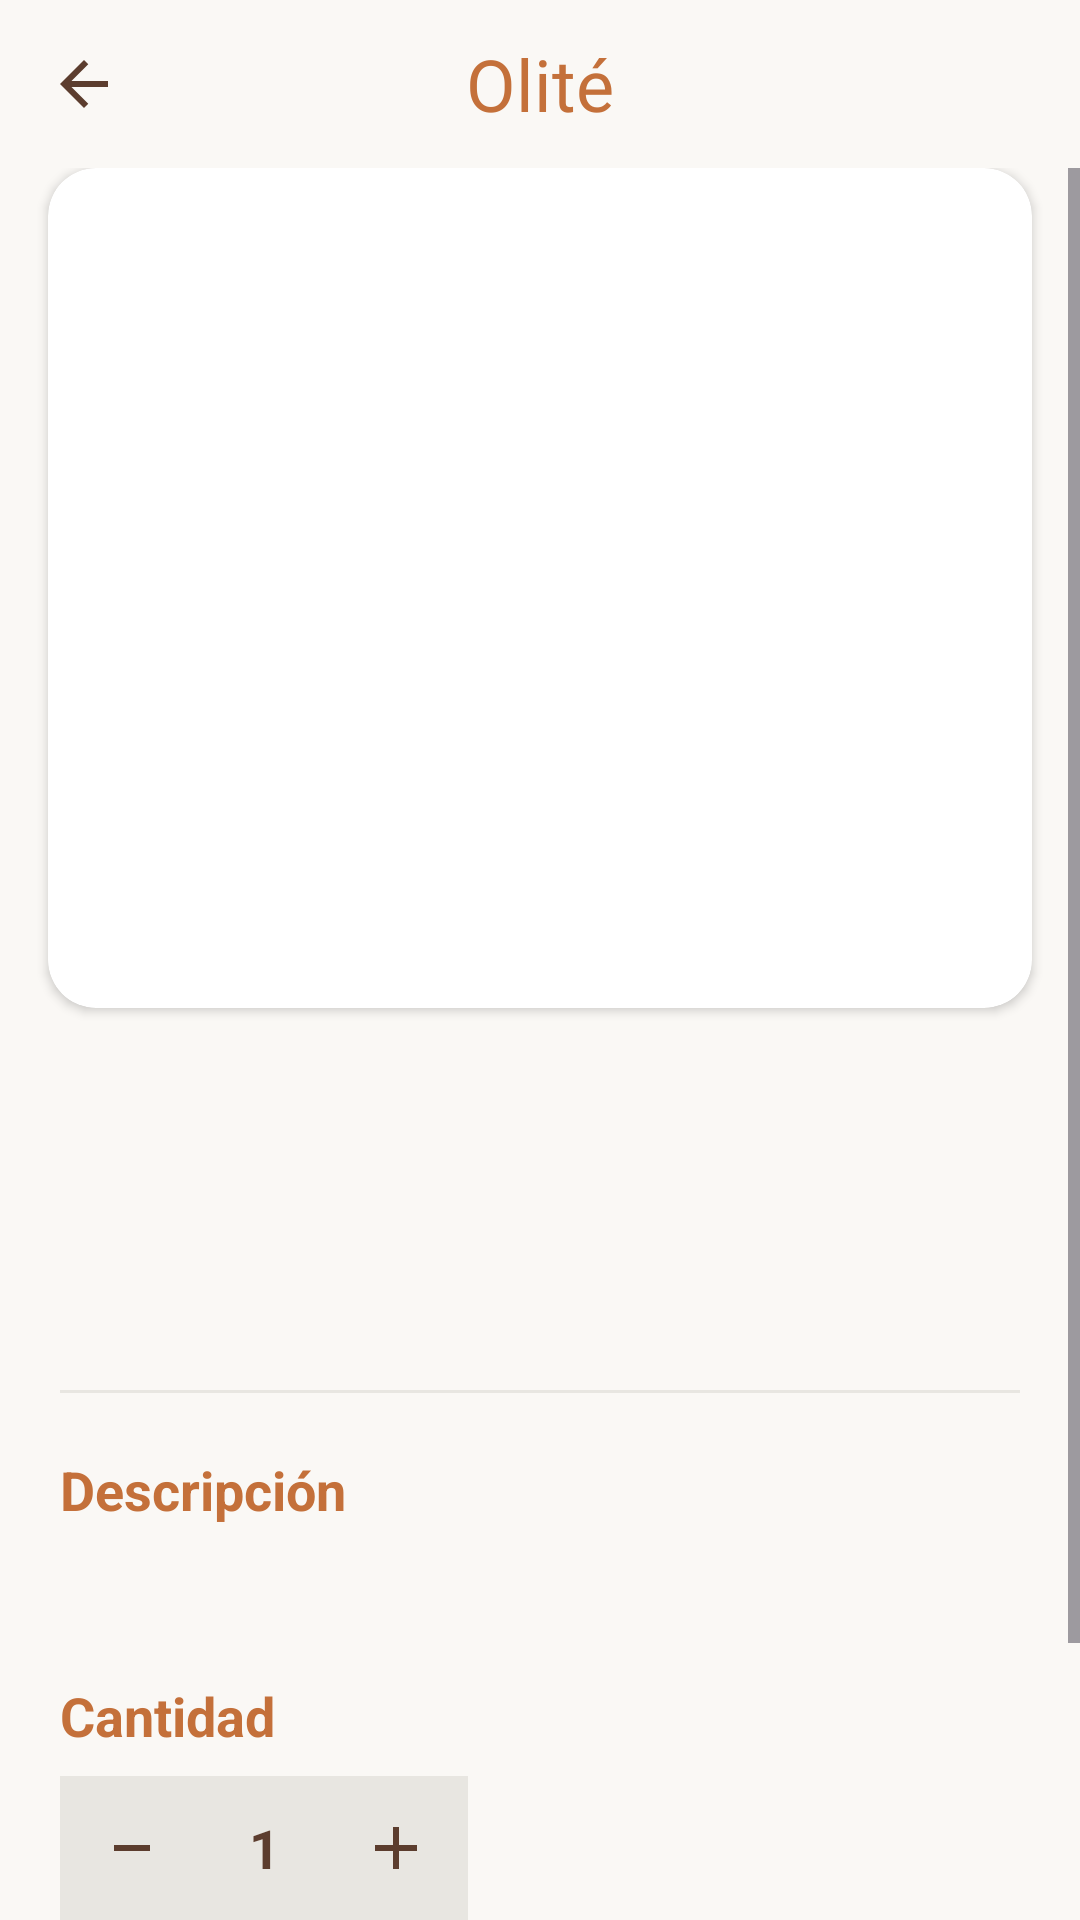

Screen size 1080px x 1920px. Icon name, then its box in pixels as Rect(x1, y1, x2, y2):
add: Rect(375, 1827, 417, 1869)
arrow back: Rect(60, 60, 108, 108)
